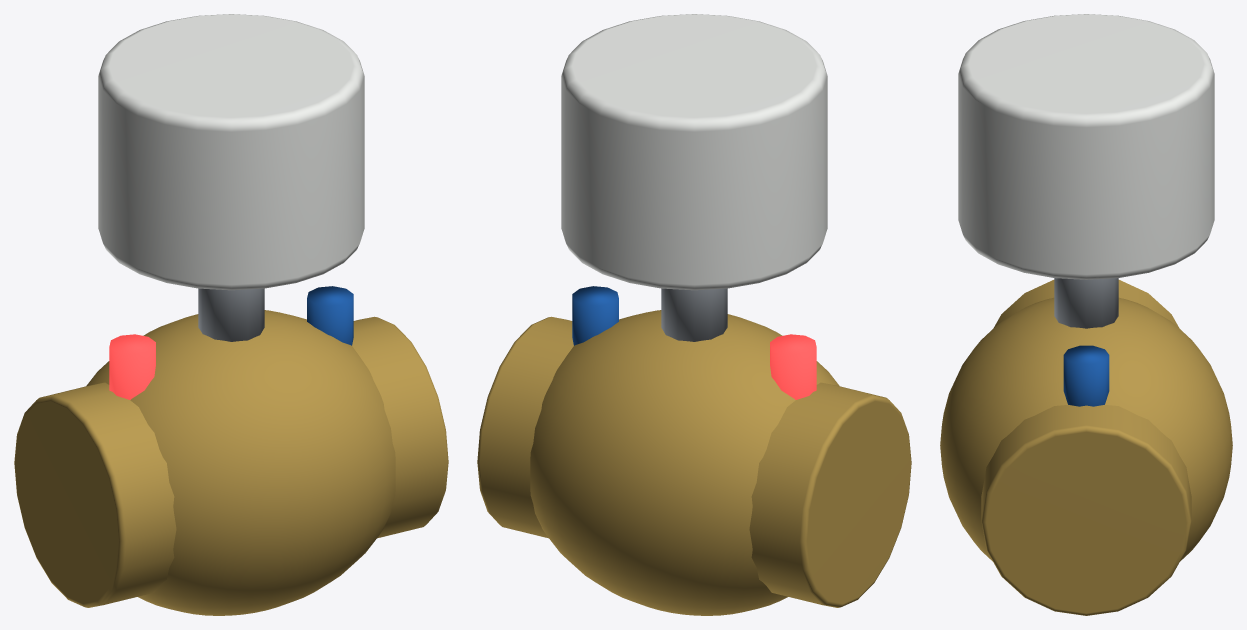
File: dev_picv.glb
3 renders of one model, left to right at view 1: azimuth 30°, elevation 25°; view 2: azimuth 150°, elevation 25°; view 3: azimuth 270°, elevation 25°, orthographic. The views are drawn at different scales.
Parts seen in each view (by area): view 1: Cylinder.004, Sphere, Cylinder, Cylinder.003, Cylinder.001, Cylinder.002; view 2: Cylinder.004, Sphere, Cylinder, Cylinder.003, Cylinder.001, Cylinder.002; view 3: Cylinder.004, Cylinder, Sphere, Cylinder.003, Cylinder.002.
Boxes of the visible parts, box(x1,y1,x2,y2) form: Cylinder.004: box(98, 14, 364, 290); Sphere: box(86, 310, 395, 615); Cylinder: box(14, 316, 448, 607); Cylinder.003: box(198, 288, 264, 341); Cylinder.001: box(109, 334, 155, 399); Cylinder.002: box(307, 286, 353, 345); Cylinder.004: box(561, 14, 827, 290); Sphere: box(530, 310, 839, 615); Cylinder: box(477, 316, 911, 607); Cylinder.003: box(661, 288, 727, 341); Cylinder.001: box(770, 334, 816, 399); Cylinder.002: box(572, 286, 618, 345); Cylinder.004: box(958, 14, 1214, 279); Cylinder: box(981, 280, 1191, 615); Sphere: box(940, 297, 1232, 561); Cylinder.003: box(1054, 278, 1118, 328); Cylinder.002: box(1063, 345, 1109, 406).
Bounding box in the file's own units: 0.14 × 0.217 × 0.112.
